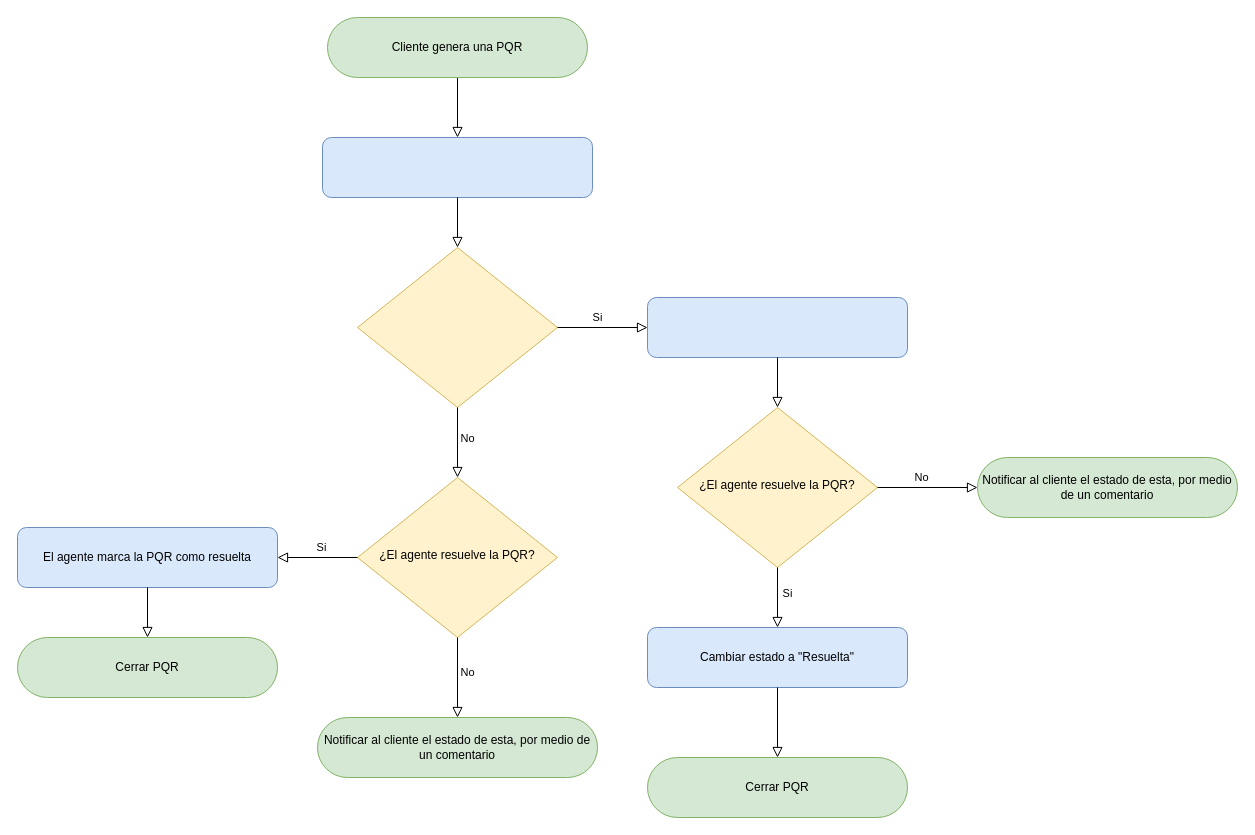
This 1255x835 diagram has some shape labels left out. Here are the shapes that lost their labels. From the top down, the centre of each, then its label:
(x=457, y=167): Es recibida por el sistema en estado "Recibida"
(x=457, y=327): ¿El agente responde con un comentario a la PQR?
(x=777, y=327): Cambiar estado a "En gestión"
